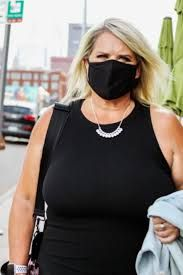with-mask: (78, 27, 143, 104)
